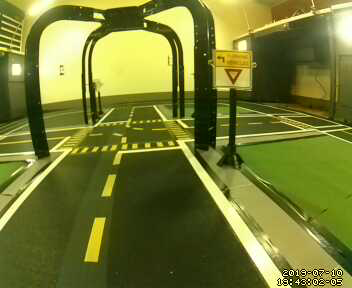Turn Yield: (212, 48, 252, 92)
